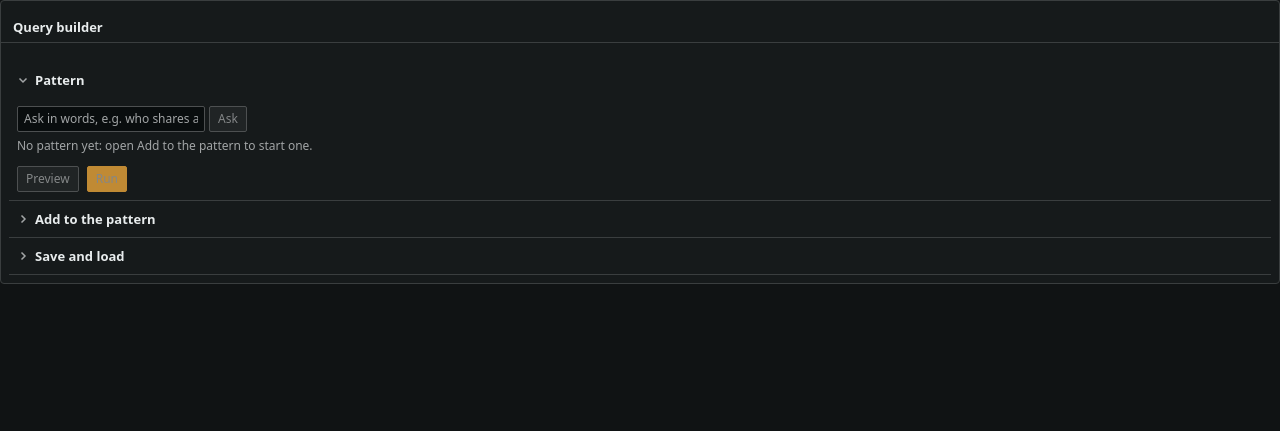
Test: QueryBuilderPanel value field on a node › removes a condition by its own button
The image size is (1280, 431).
Click the button "Add to the pattern" at (95, 219), box [9, 201, 1271, 237]
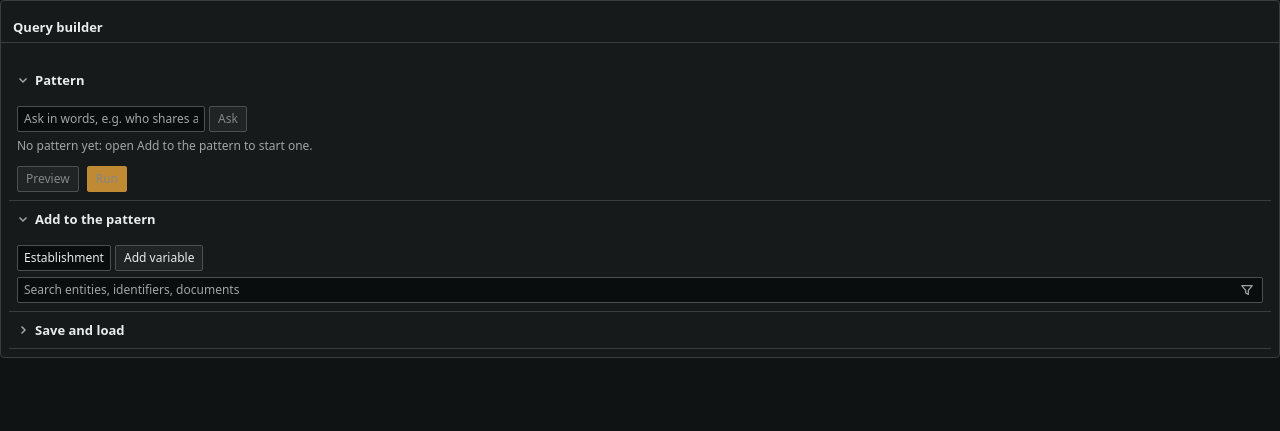
Click the button "Add variable" at (159, 258), box [115, 245, 203, 271]
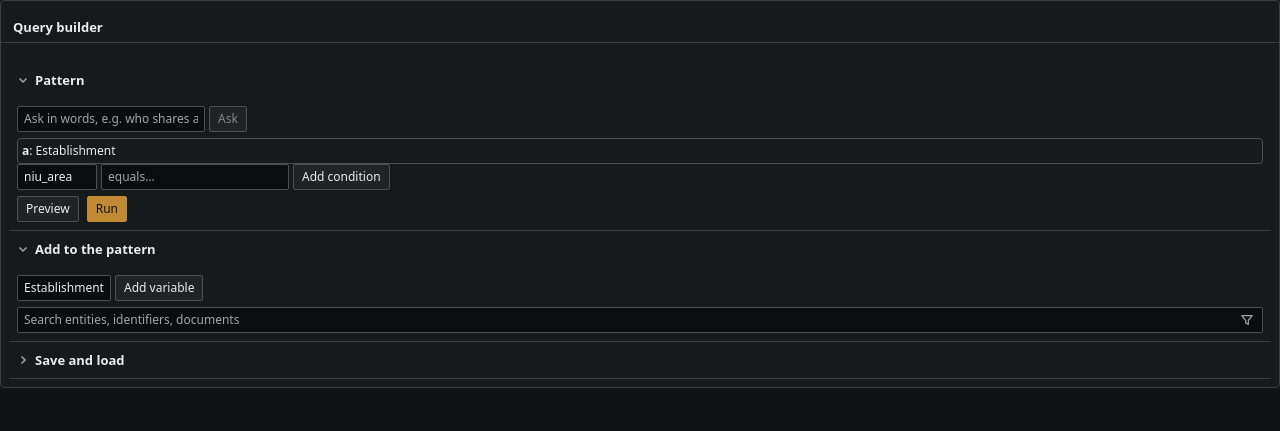
Type "North" into the field named "Condition value on a" at (195, 177), box [101, 164, 289, 190]
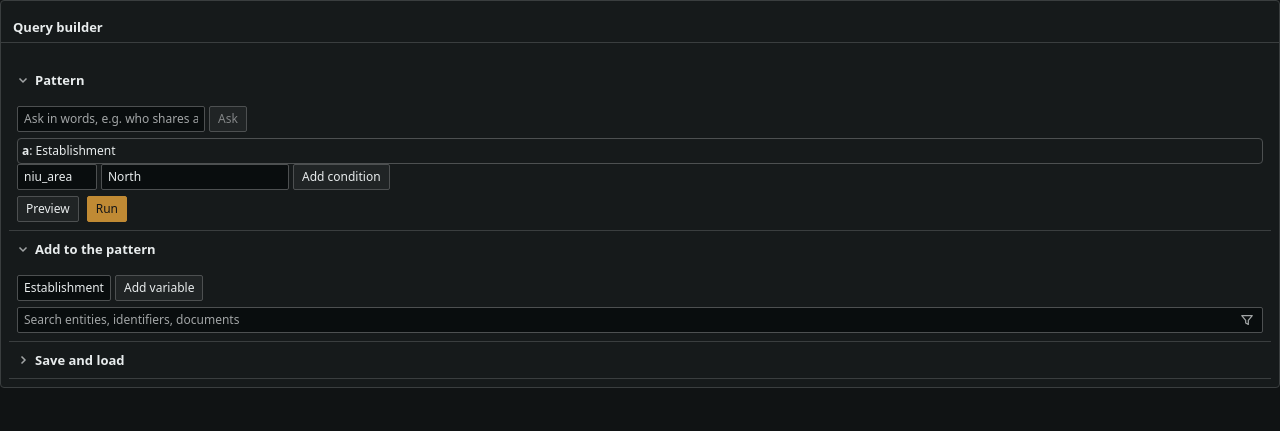
Click the button with aria-label "Add condition on a" at (341, 177), box [293, 164, 390, 190]
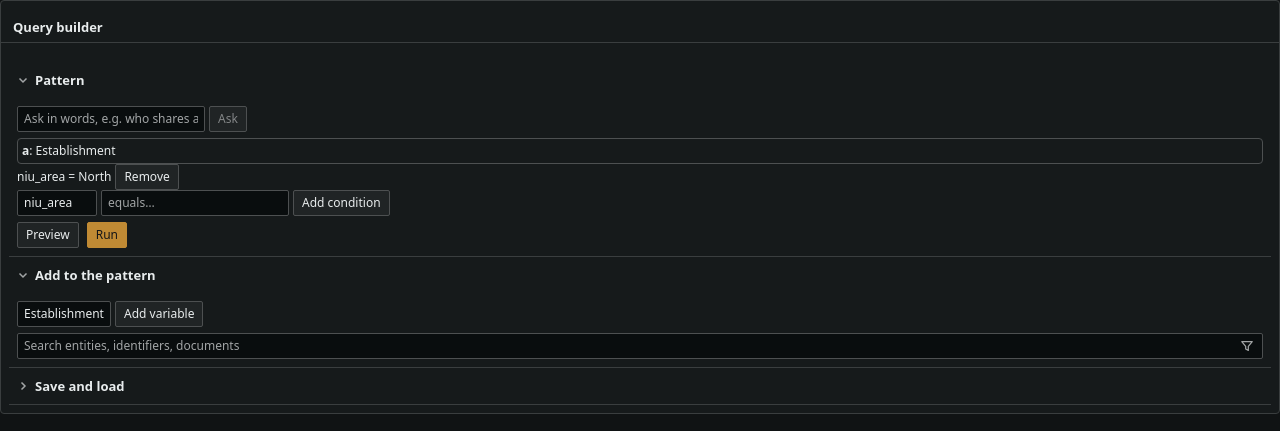
Click the button with aria-label "Remove condition niu_area on a" at (147, 177), box [115, 164, 179, 190]
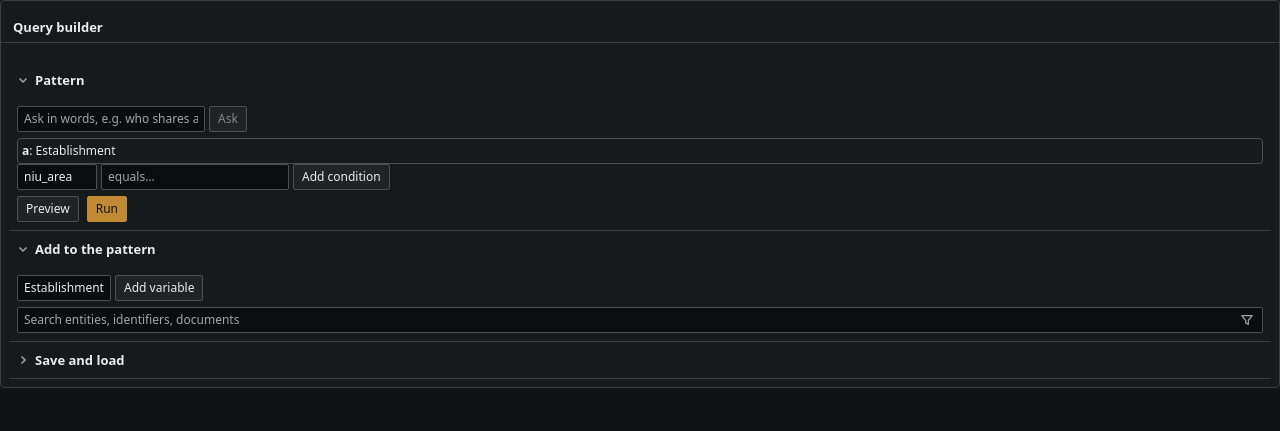
Result: the text "niu_area = North" is gone
